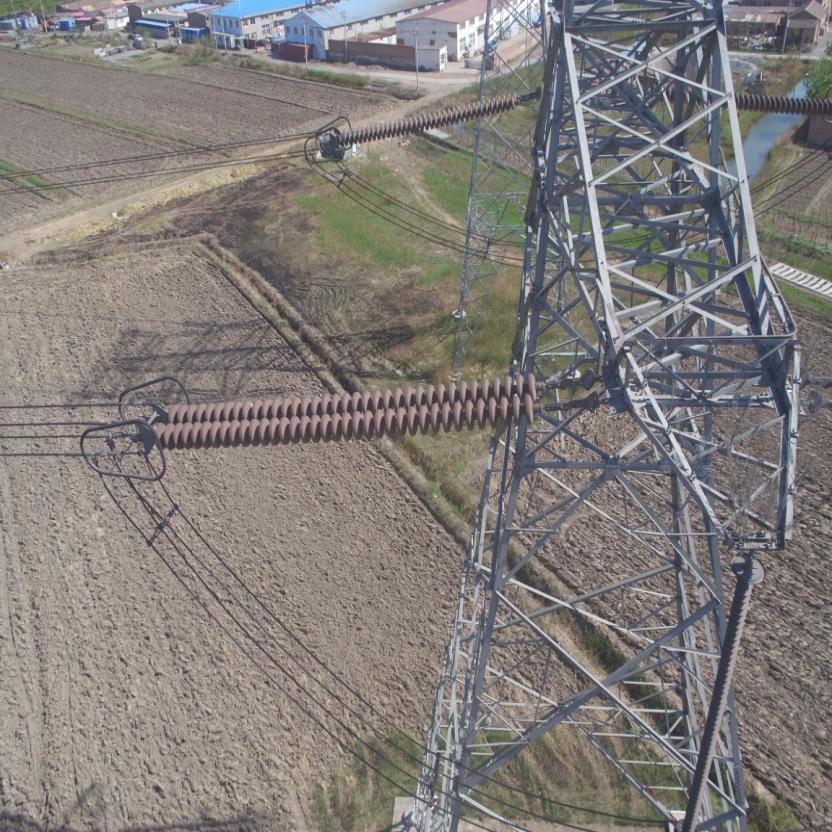insulator: (146, 368, 557, 452), (337, 89, 517, 147), (732, 90, 832, 119)
